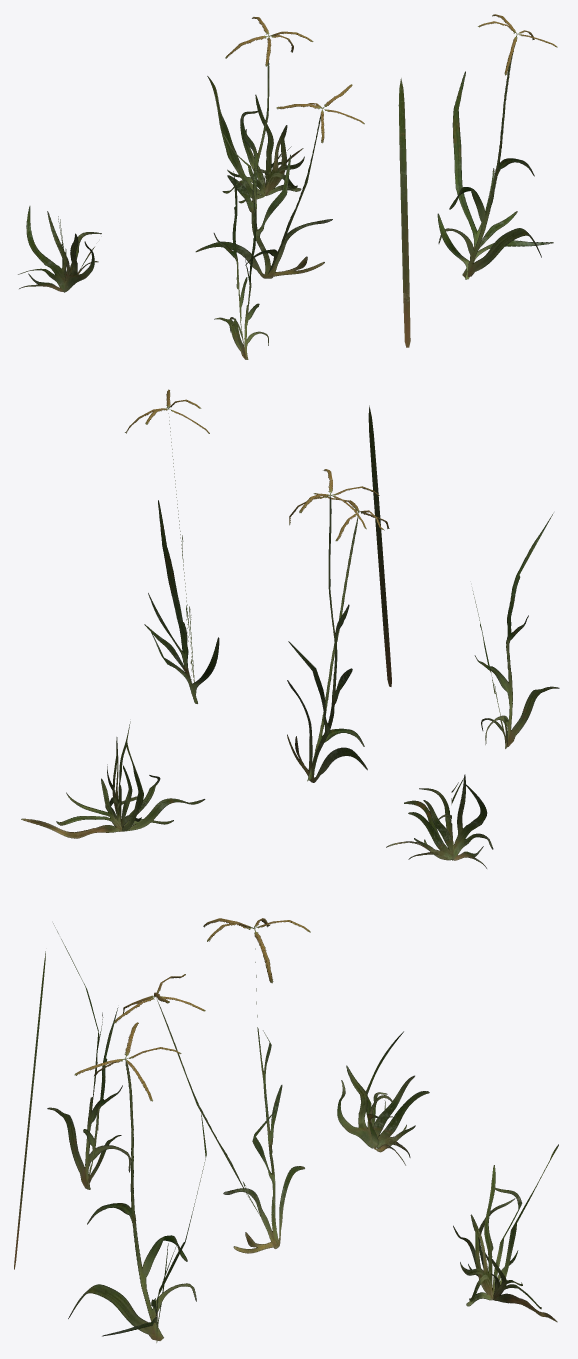
File: grass_bermuda_01.glb
The picture shows the model from 3 angles, top to bottom: view 1: azimuth 30°, elevation 25°; view 2: azimuth 150°, elevation 25°; view 3: azimuth 270°, elevation 25°; orthographic projection. The views are drawn at different scales.
Visible parts, largest first — view 1: grass_bermuda_01_medium_c; view 2: grass_bermuda_01_medium_c; view 3: grass_bermuda_01_medium_c.
Boxes of the visible parts, x1,y1,x2,y2 form: grass_bermuda_01_medium_c: (18, 14, 557, 359); grass_bermuda_01_medium_c: (21, 389, 559, 868); grass_bermuda_01_medium_c: (14, 918, 558, 1342).
Size of the model in its own units: 0.2583 by 0.1524 by 0.2292.
1 material, 1 textured.
